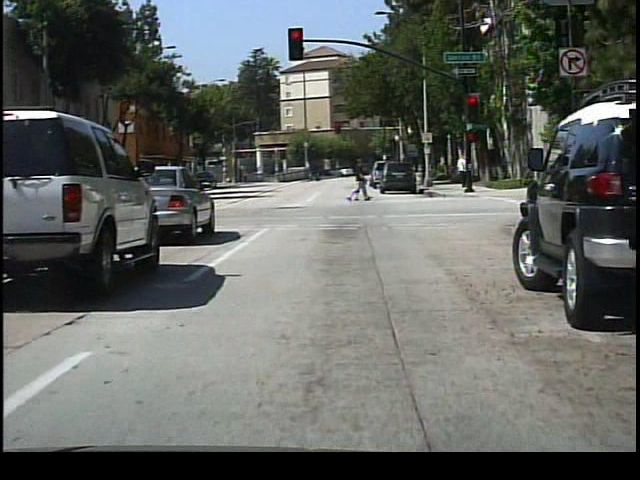person: (348, 157, 373, 204), (455, 149, 474, 192)
